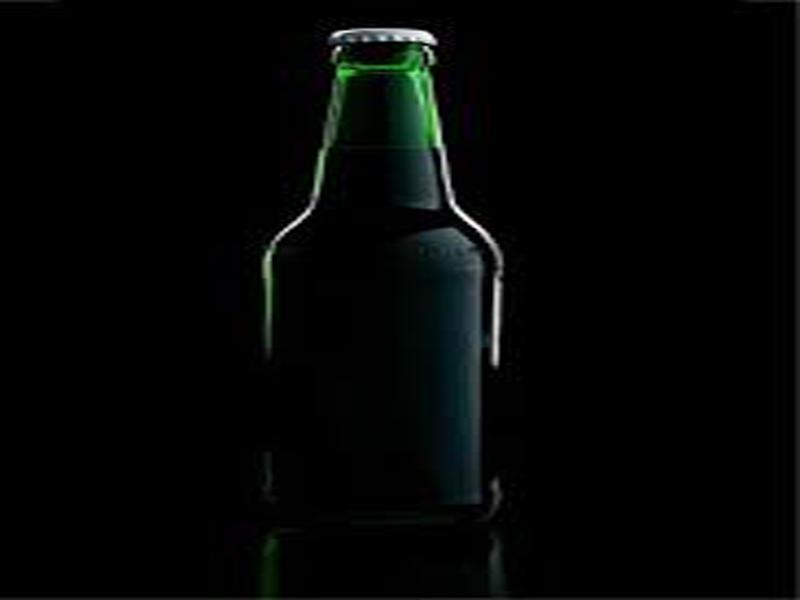Beer: (262, 26, 511, 515)
